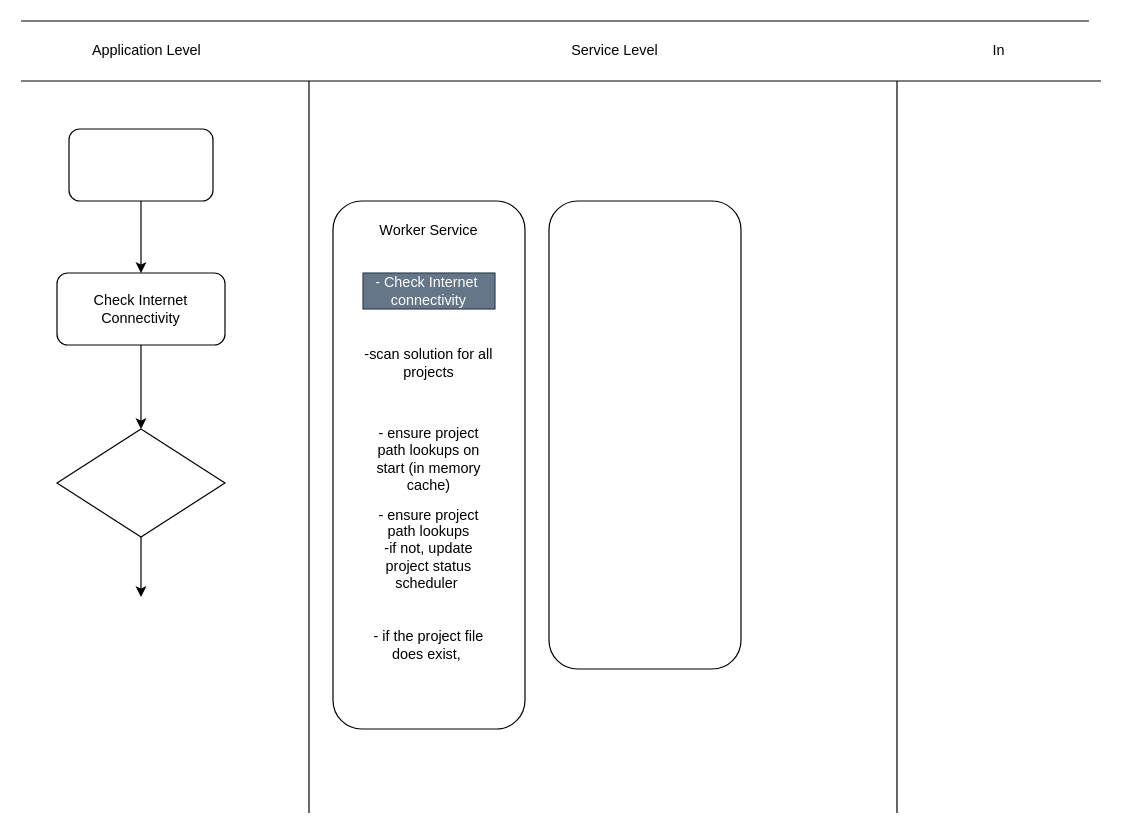
Image size: 1123x835. Some labels were removed from this diagram. Each missing label, with the centre of its shape:
"DESKTOP" goes at (x=140, y=164).
"Is Internet Connection" goes at (x=140, y=482).
